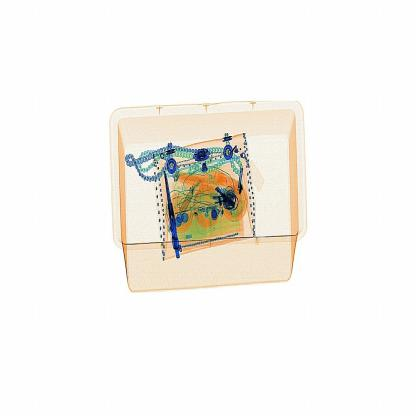gun: (160, 166, 182, 268)
